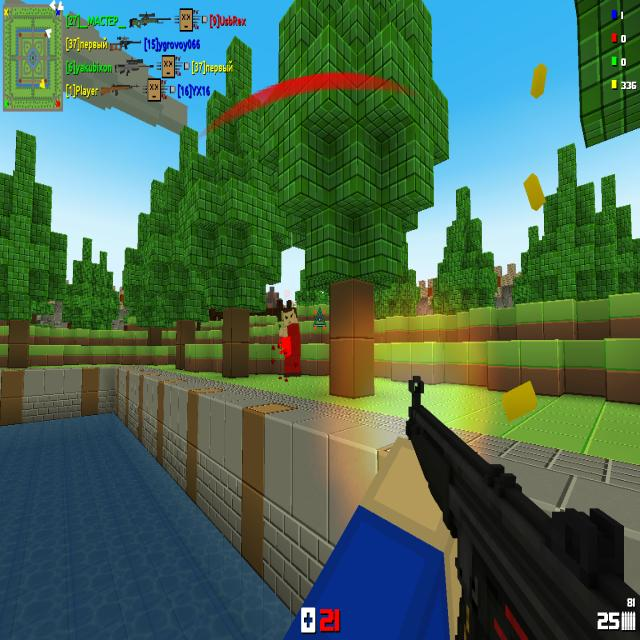enemy: (278, 305, 302, 378)
